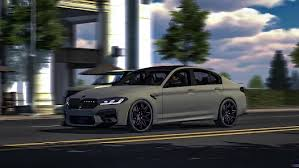car: (65, 64, 248, 129)
